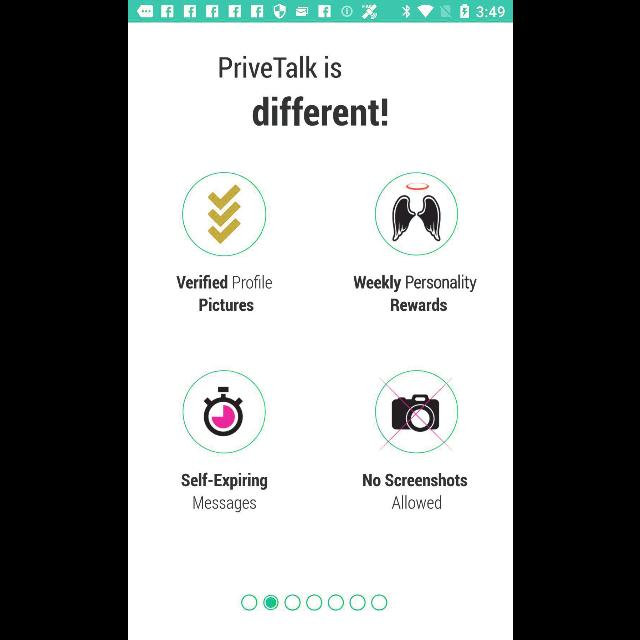image: (181, 172, 265, 256), (374, 371, 458, 454), (374, 172, 458, 255), (182, 371, 264, 454)
pageindicator: (240, 594, 386, 610)
text: (352, 274, 476, 312), (362, 472, 466, 510), (252, 96, 386, 125), (176, 274, 272, 312), (180, 473, 268, 513), (219, 56, 341, 78)
uppertaskbar: (128, 1, 512, 23)
